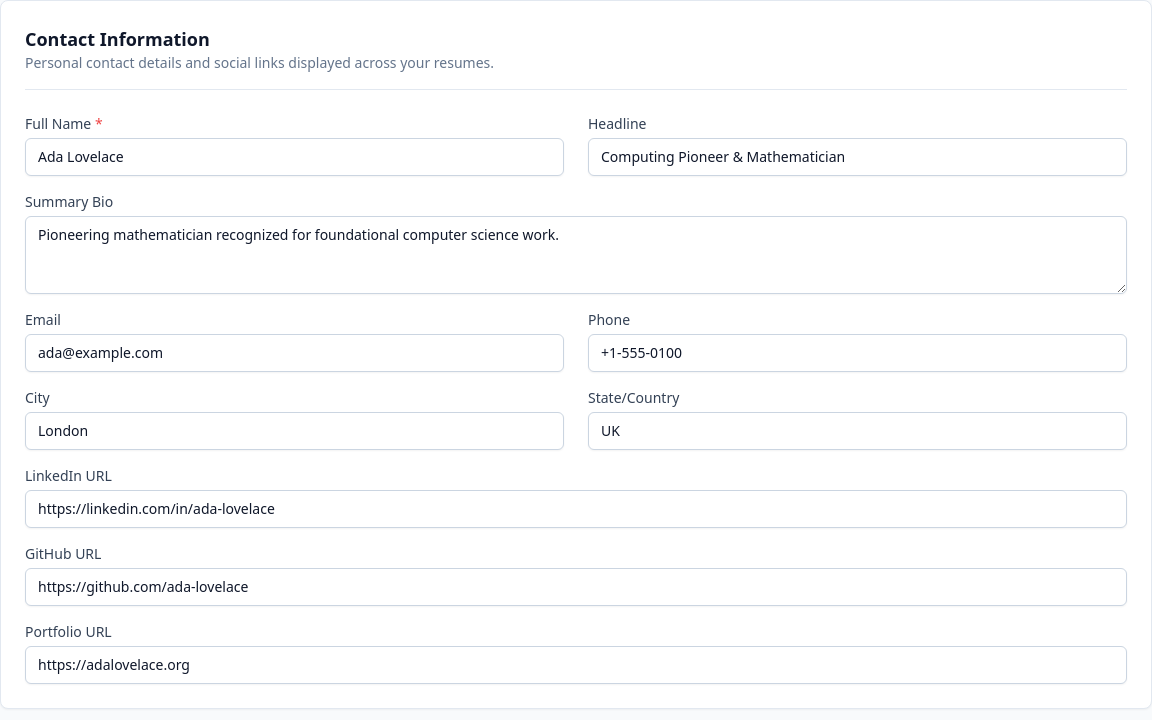
Test case: ContactForm › validates email format and sets aria-invalid when invalid
The width and height of the screenshot is (1152, 720).
Replace the text in the field labelled "Email" with "not-an-email" at (294,353), box [25,334,564,372]
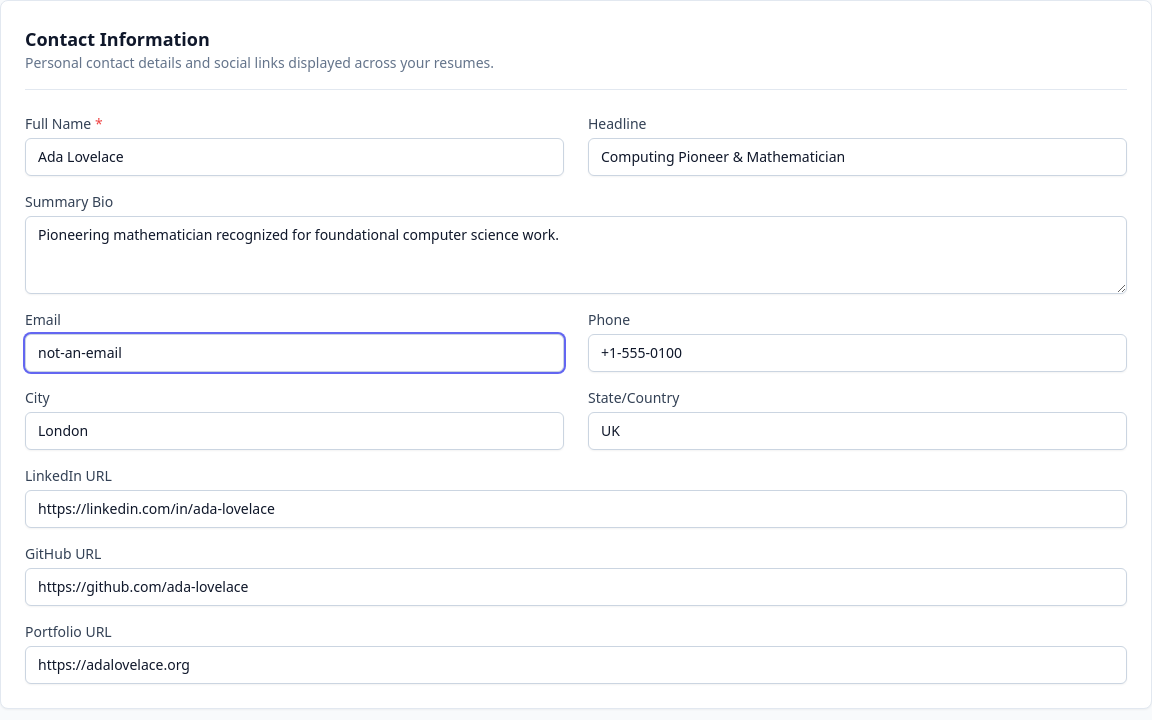
Press Tab
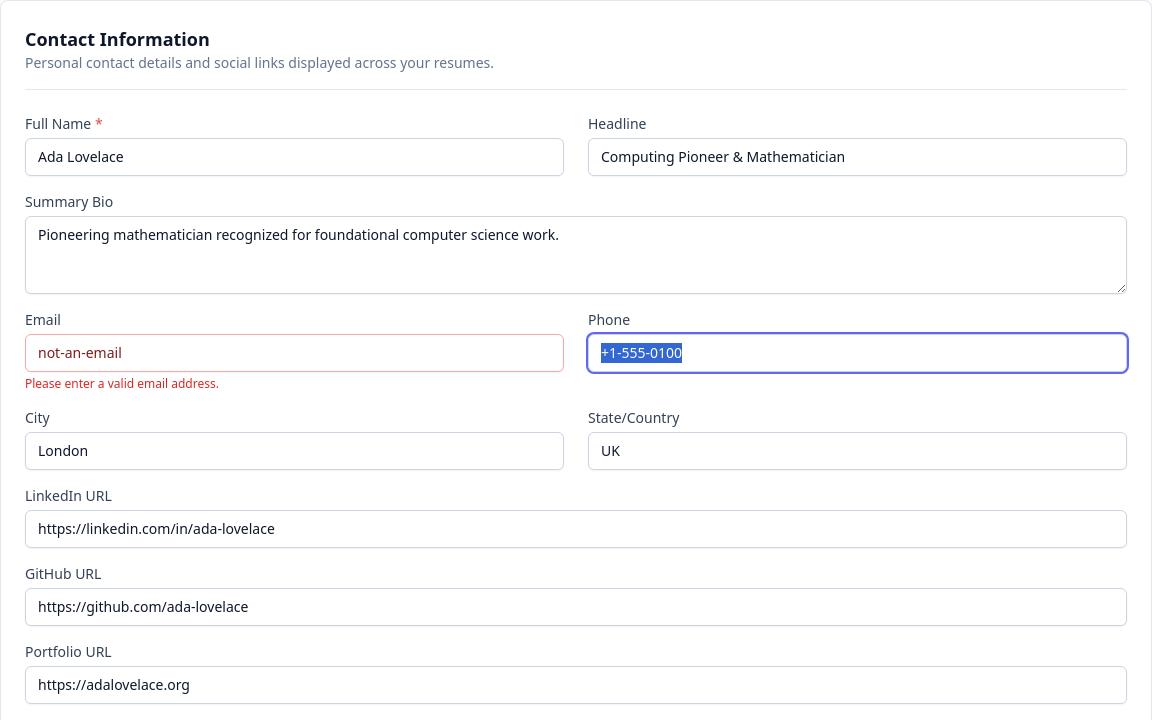
Expected: the text "Please enter a valid email address." is shown, [25,375,219,392]
